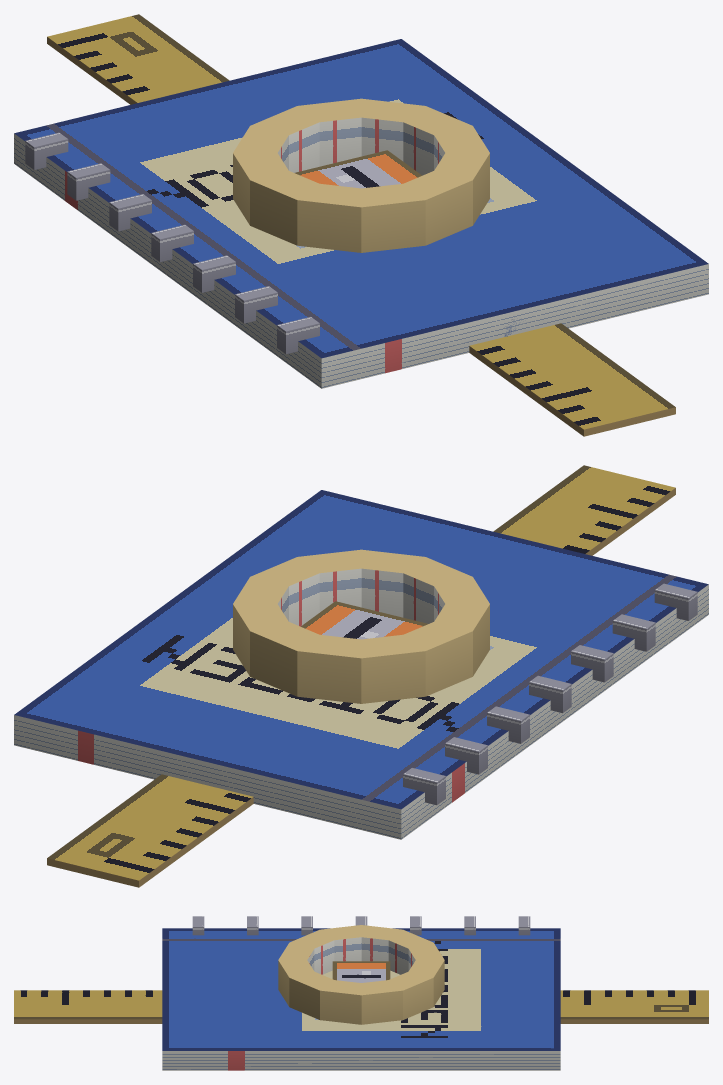
Rendered from desk_extras.glb.
3 views of the same model, one above another, from view 1: azimuth 30°, elevation 25°; view 2: azimuth 150°, elevation 25°; view 3: azimuth 270°, elevation 25° (orthographic). The views are drawn at different scales.
Parts seen in each view (by area): view 1: Notebook, TapeRoll, Ruler, Sharpener; view 2: Notebook, TapeRoll, Ruler, Sharpener; view 3: Notebook, TapeRoll, Ruler, Sharpener.
Part boxes in pixels (bbox=[...]): Notebook: bbox=[14, 39, 708, 388]; TapeRoll: bbox=[233, 98, 489, 252]; Ruler: bbox=[47, 14, 675, 436]; Sharpener: bbox=[295, 150, 421, 188]; Notebook: bbox=[14, 490, 708, 839]; TapeRoll: bbox=[233, 549, 489, 703]; Ruler: bbox=[47, 465, 675, 887]; Sharpener: bbox=[301, 601, 427, 639]; Notebook: bbox=[162, 916, 560, 1070]; TapeRoll: bbox=[278, 925, 444, 1024]; Ruler: bbox=[14, 990, 708, 1023]; Sharpener: bbox=[332, 961, 390, 982].
Bounding box in the file's own units: 8.25 × 1.5 × 19.2.
1 material, 1 textured.
